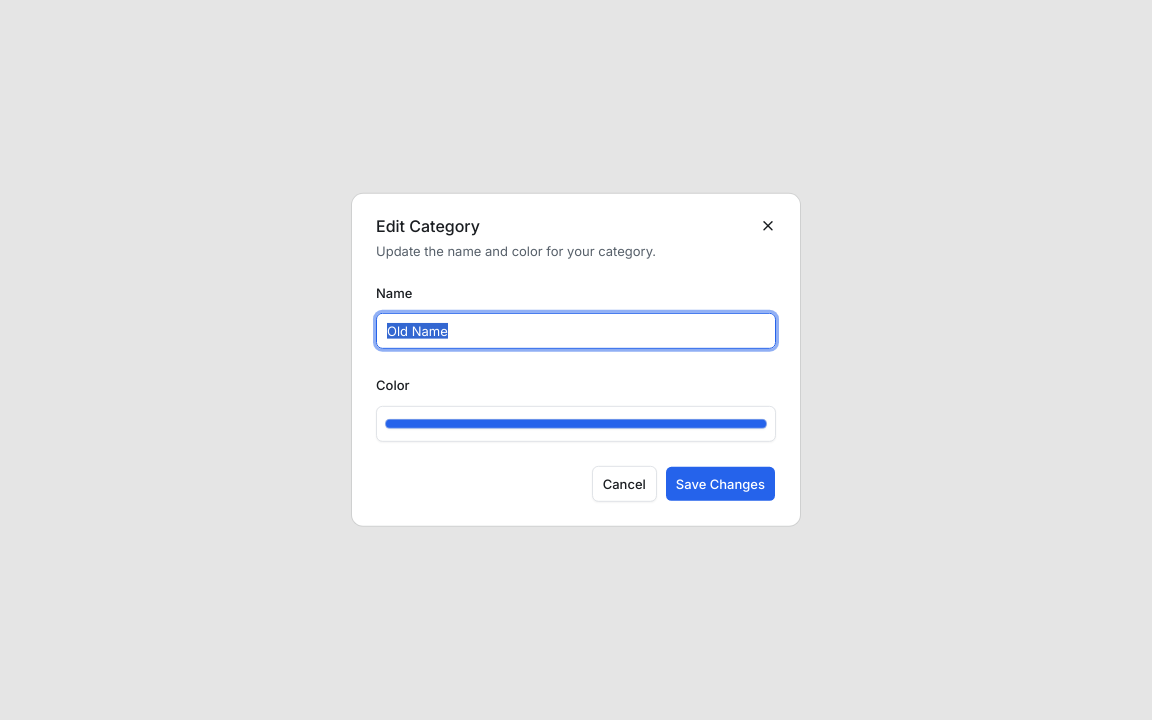
EditCategoryDialog › shows validation error for empty name
The image size is (1152, 720).
Clear the field labelled "Name" at {"x": 576, "y": 331}, box [376,313,776,349]
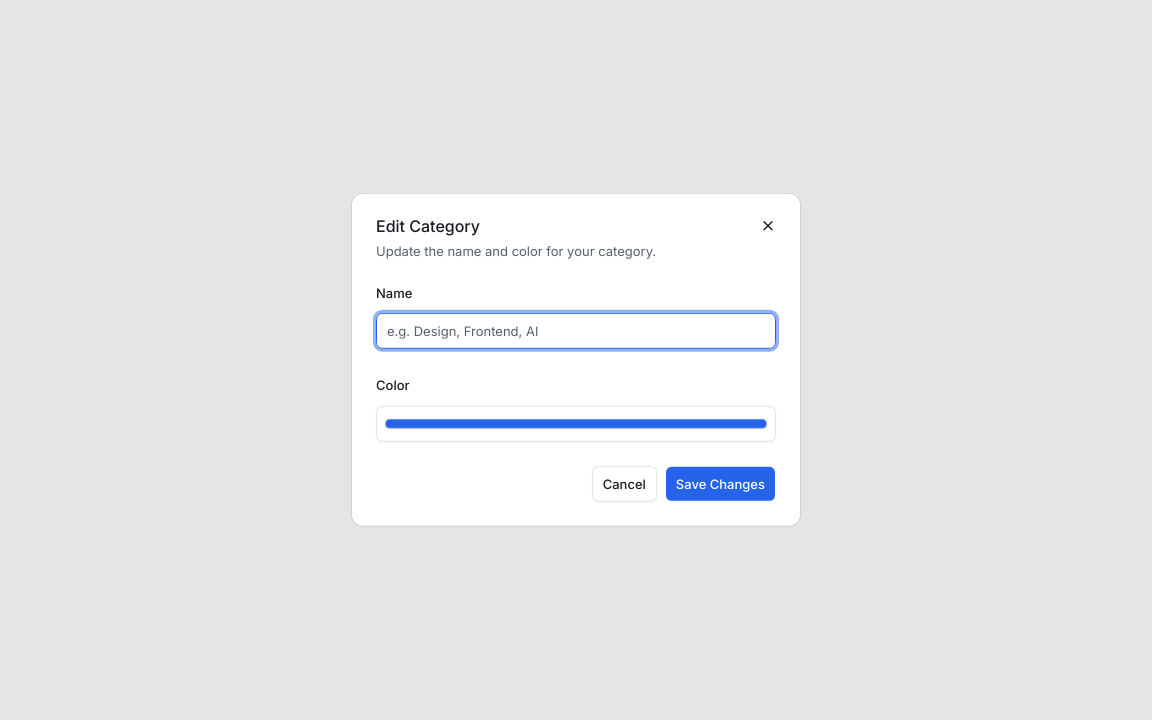
Click the button "Save Changes" at {"x": 720, "y": 484}, box [665,466,776,502]
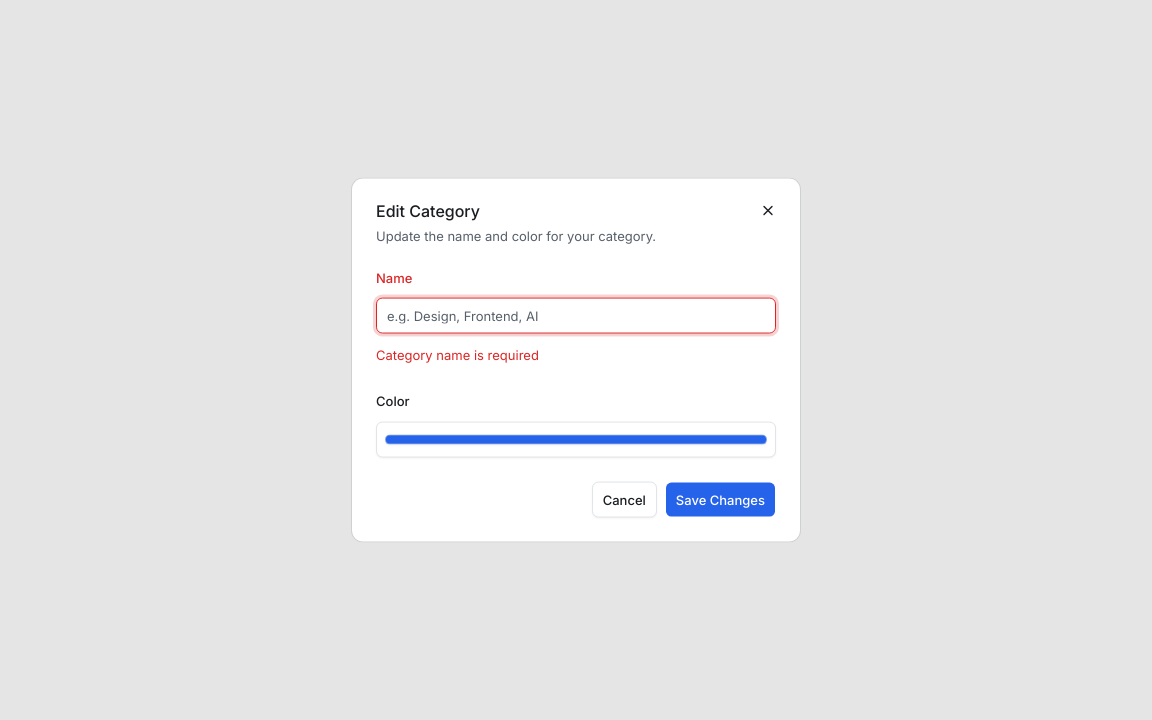
Result: the text "Category name is required" is shown at [376,347,539,363]
